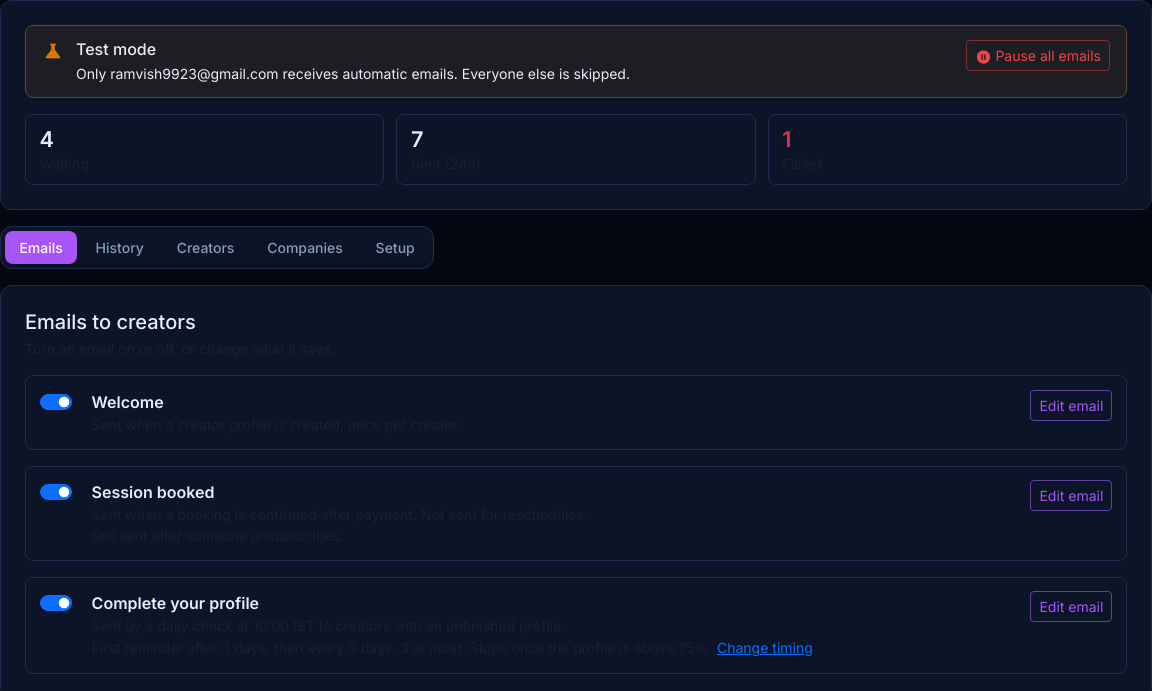
Test: Companies tab › loads when opened and shows each company's email status
Click the tab "Companies". click: (305, 248)
box: [253, 231, 357, 264]
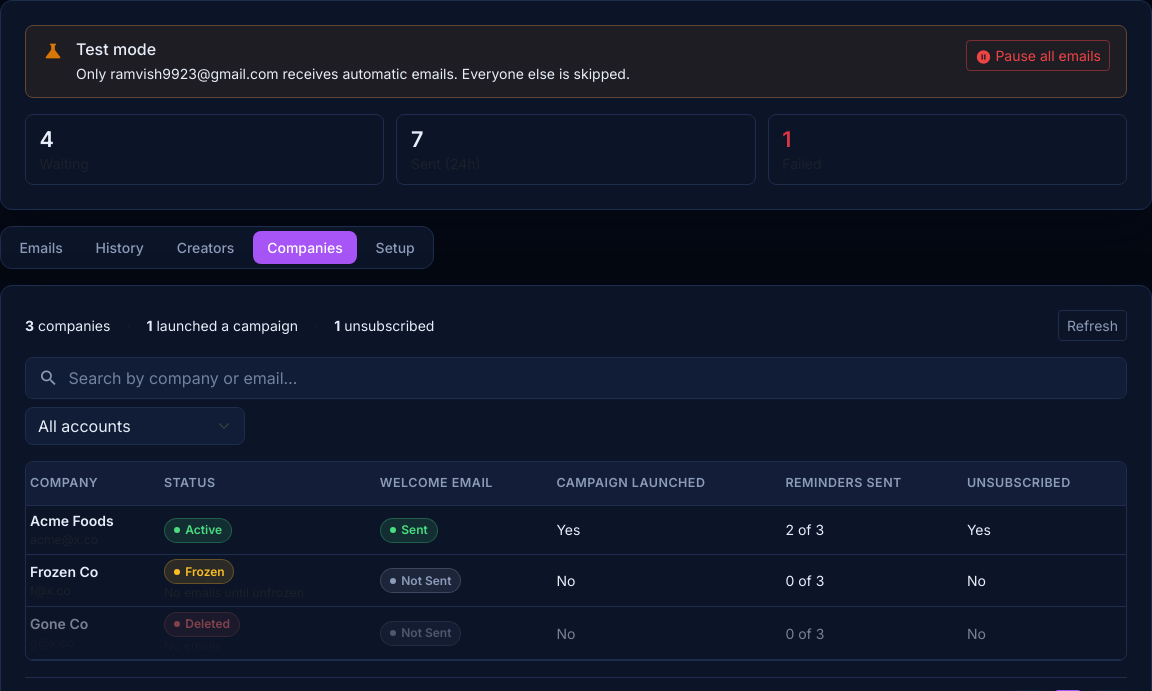
expect the text "Acme Foods" is shown: met, box [30, 512, 114, 529]
expect the cell "Deleted No emails" is shown: met, box [160, 607, 376, 660]
expect the button "Edit" is gone: met
